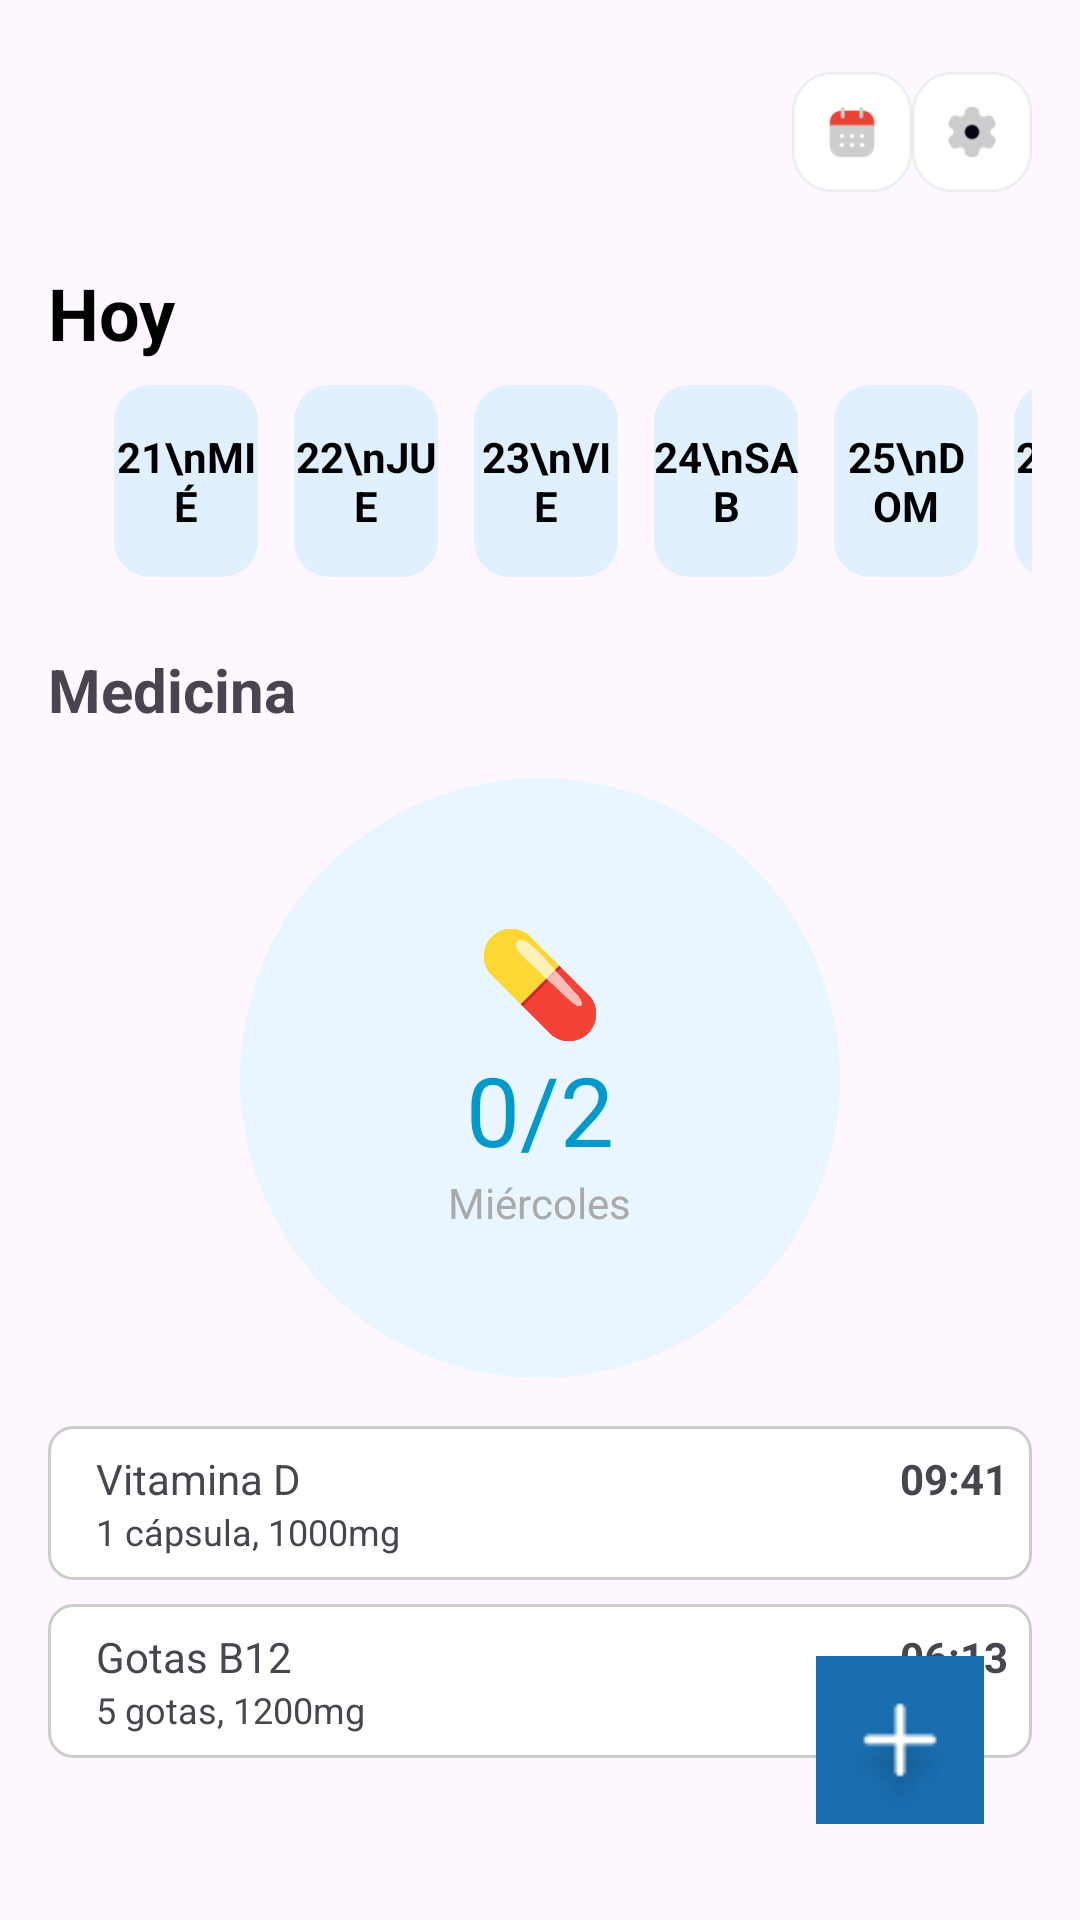

Point at icon controls on the screen. Image size 1080 × 1920, points as (x=x, y=y).
add: (x=900, y=1740)
calendar: (x=852, y=132)
pill: (x=540, y=985)
settings: (x=972, y=132)
